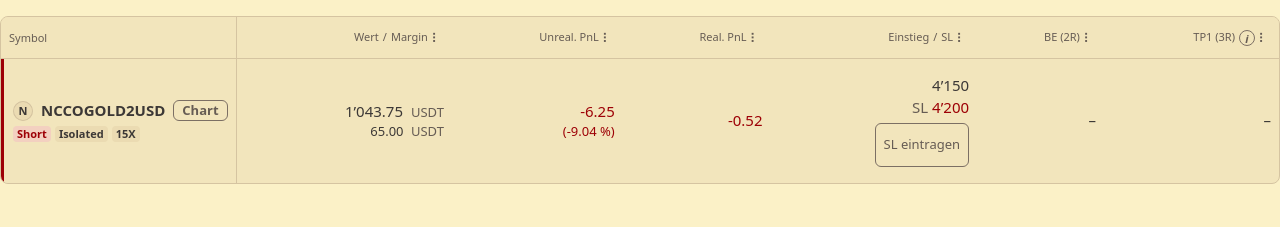
Scenario: Ursprünglichen SL eintragen: Eingabe › SHORT: ungültige Eingabe "{"positionId":"9100000000000000002","symbol":"NCCOGOLD2USD-USDT","side":"SHORT","isolated":true,"positionAmount":"0.25","avgOpenPrice"
Click the button "SL eintragen" at (922, 144), box [874,122,969,166]
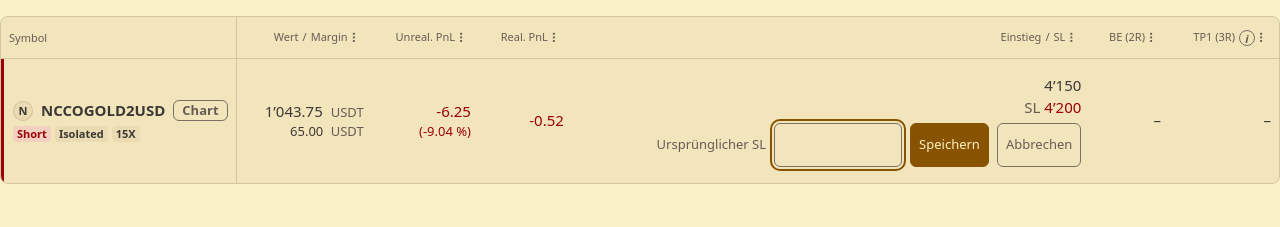
Type "1" into the field labelled "Ursprünglicher SL" at (838, 144), box [774,122,902,166]
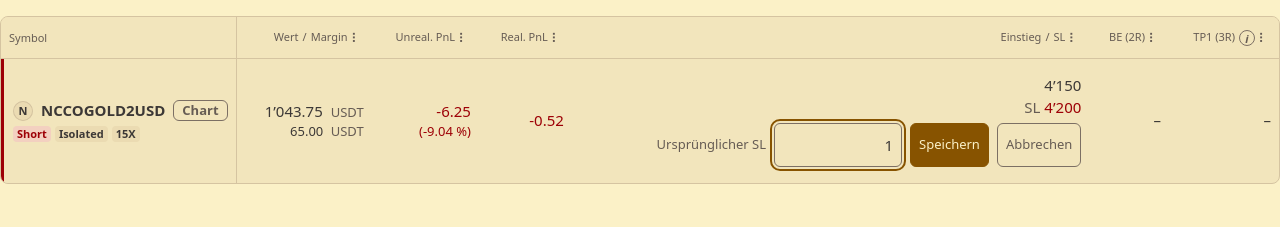
Click the button "Speichern" at (950, 144), box [910,122,989,166]
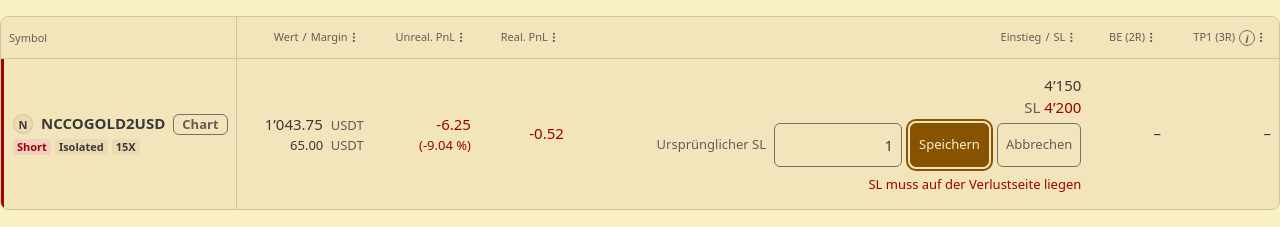
Expected: the message shows "Verlustseite", [868,174,1081,192]
